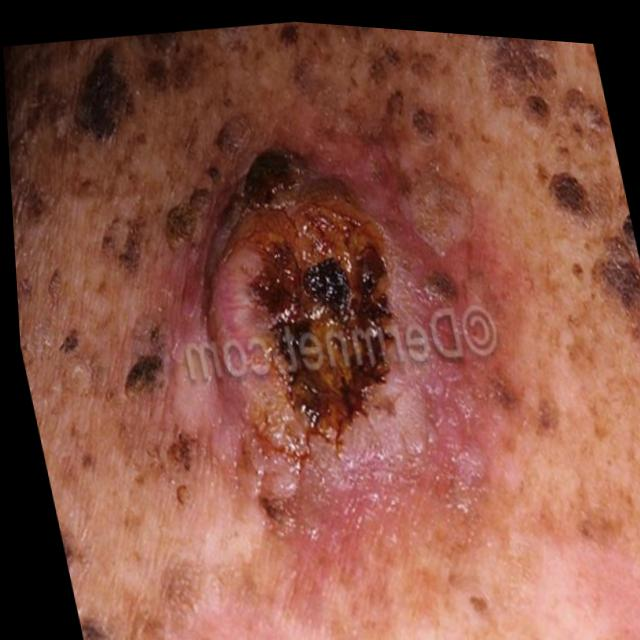Eczema: (33, 2, 640, 508)
